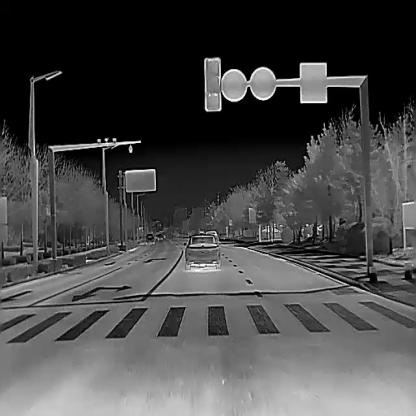car: (184, 233, 220, 270), (206, 229, 218, 245), (145, 232, 154, 242), (155, 232, 163, 242)
